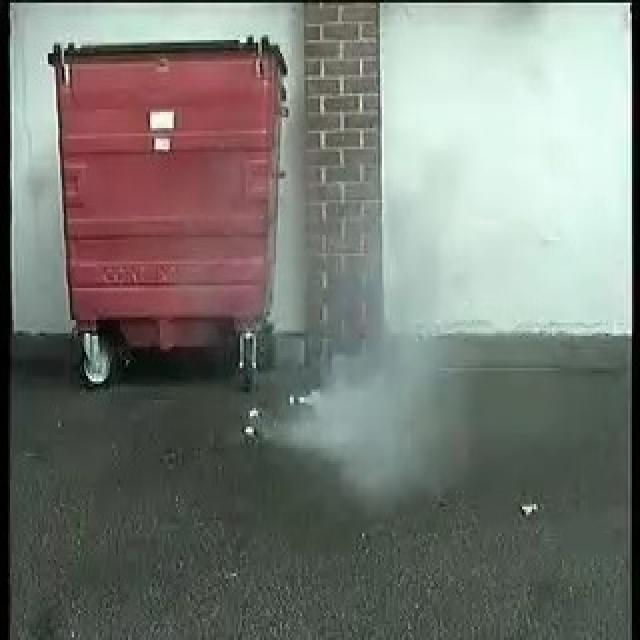smoke: (274, 326, 436, 489)
